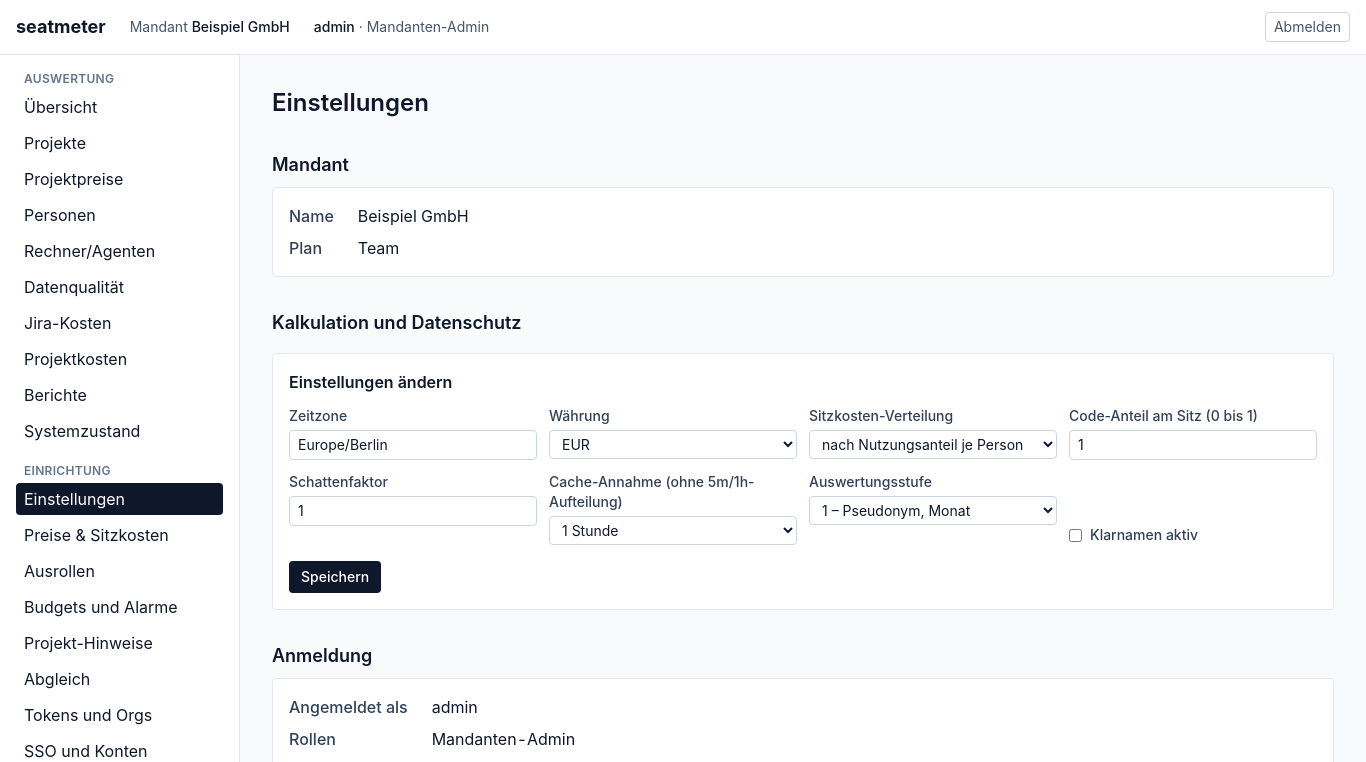
Einstellungen: Kalkulation und Datenschutz › prüft Eingaben mit deutschen Meldungen ohne Anfrage
This screenshot has width=1366, height=762.
Replace the text in the field labelled "Code-Anteil am Sitz (0 bis 1)" with "1,5": (1193,445) [1069,430,1317,460]
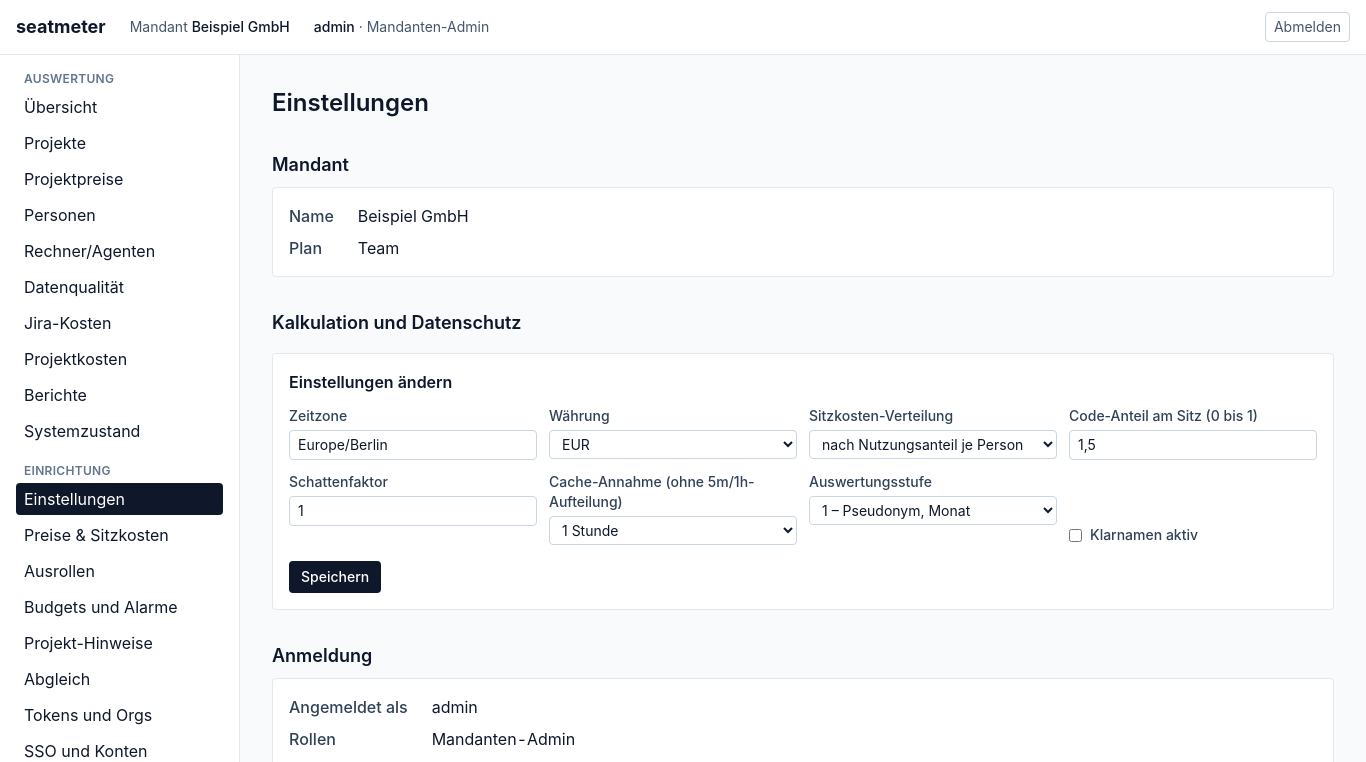
Replace the text in the field labelled "Zeitzone" with "Mond/Basis": (413,445) [289,430,537,460]
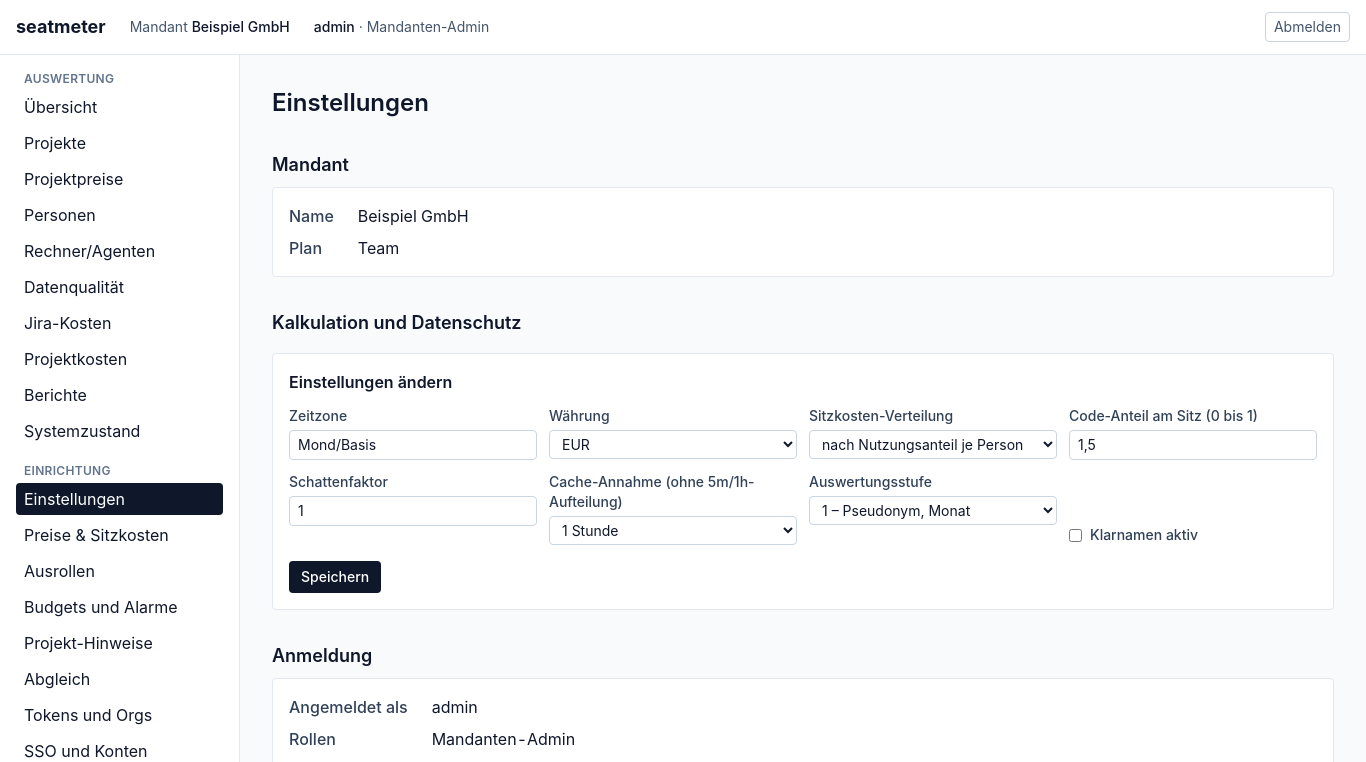
Click the button "Speichern": (335,577) [289,561,381,593]
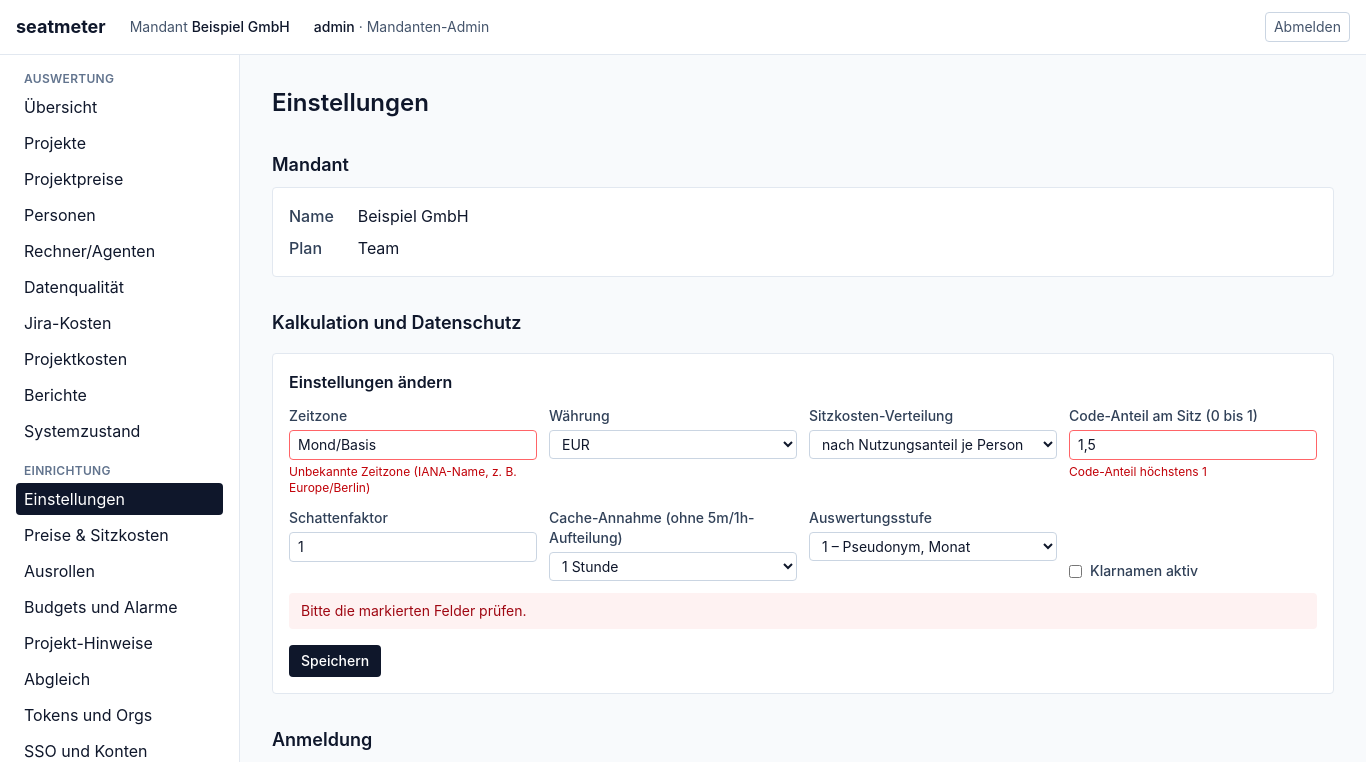
Check: the text "Code-Anteil höchstens 1" is shown, box [1069,464,1207,479]
Check: the text "Unbekannte Zeitzone (IANA-Name, z. B. Europe/Berlin)" is shown, box [289,464,537,496]
Check: the message reads "Bitte die markierten Felder prüfen.", box [301,602,526,619]
